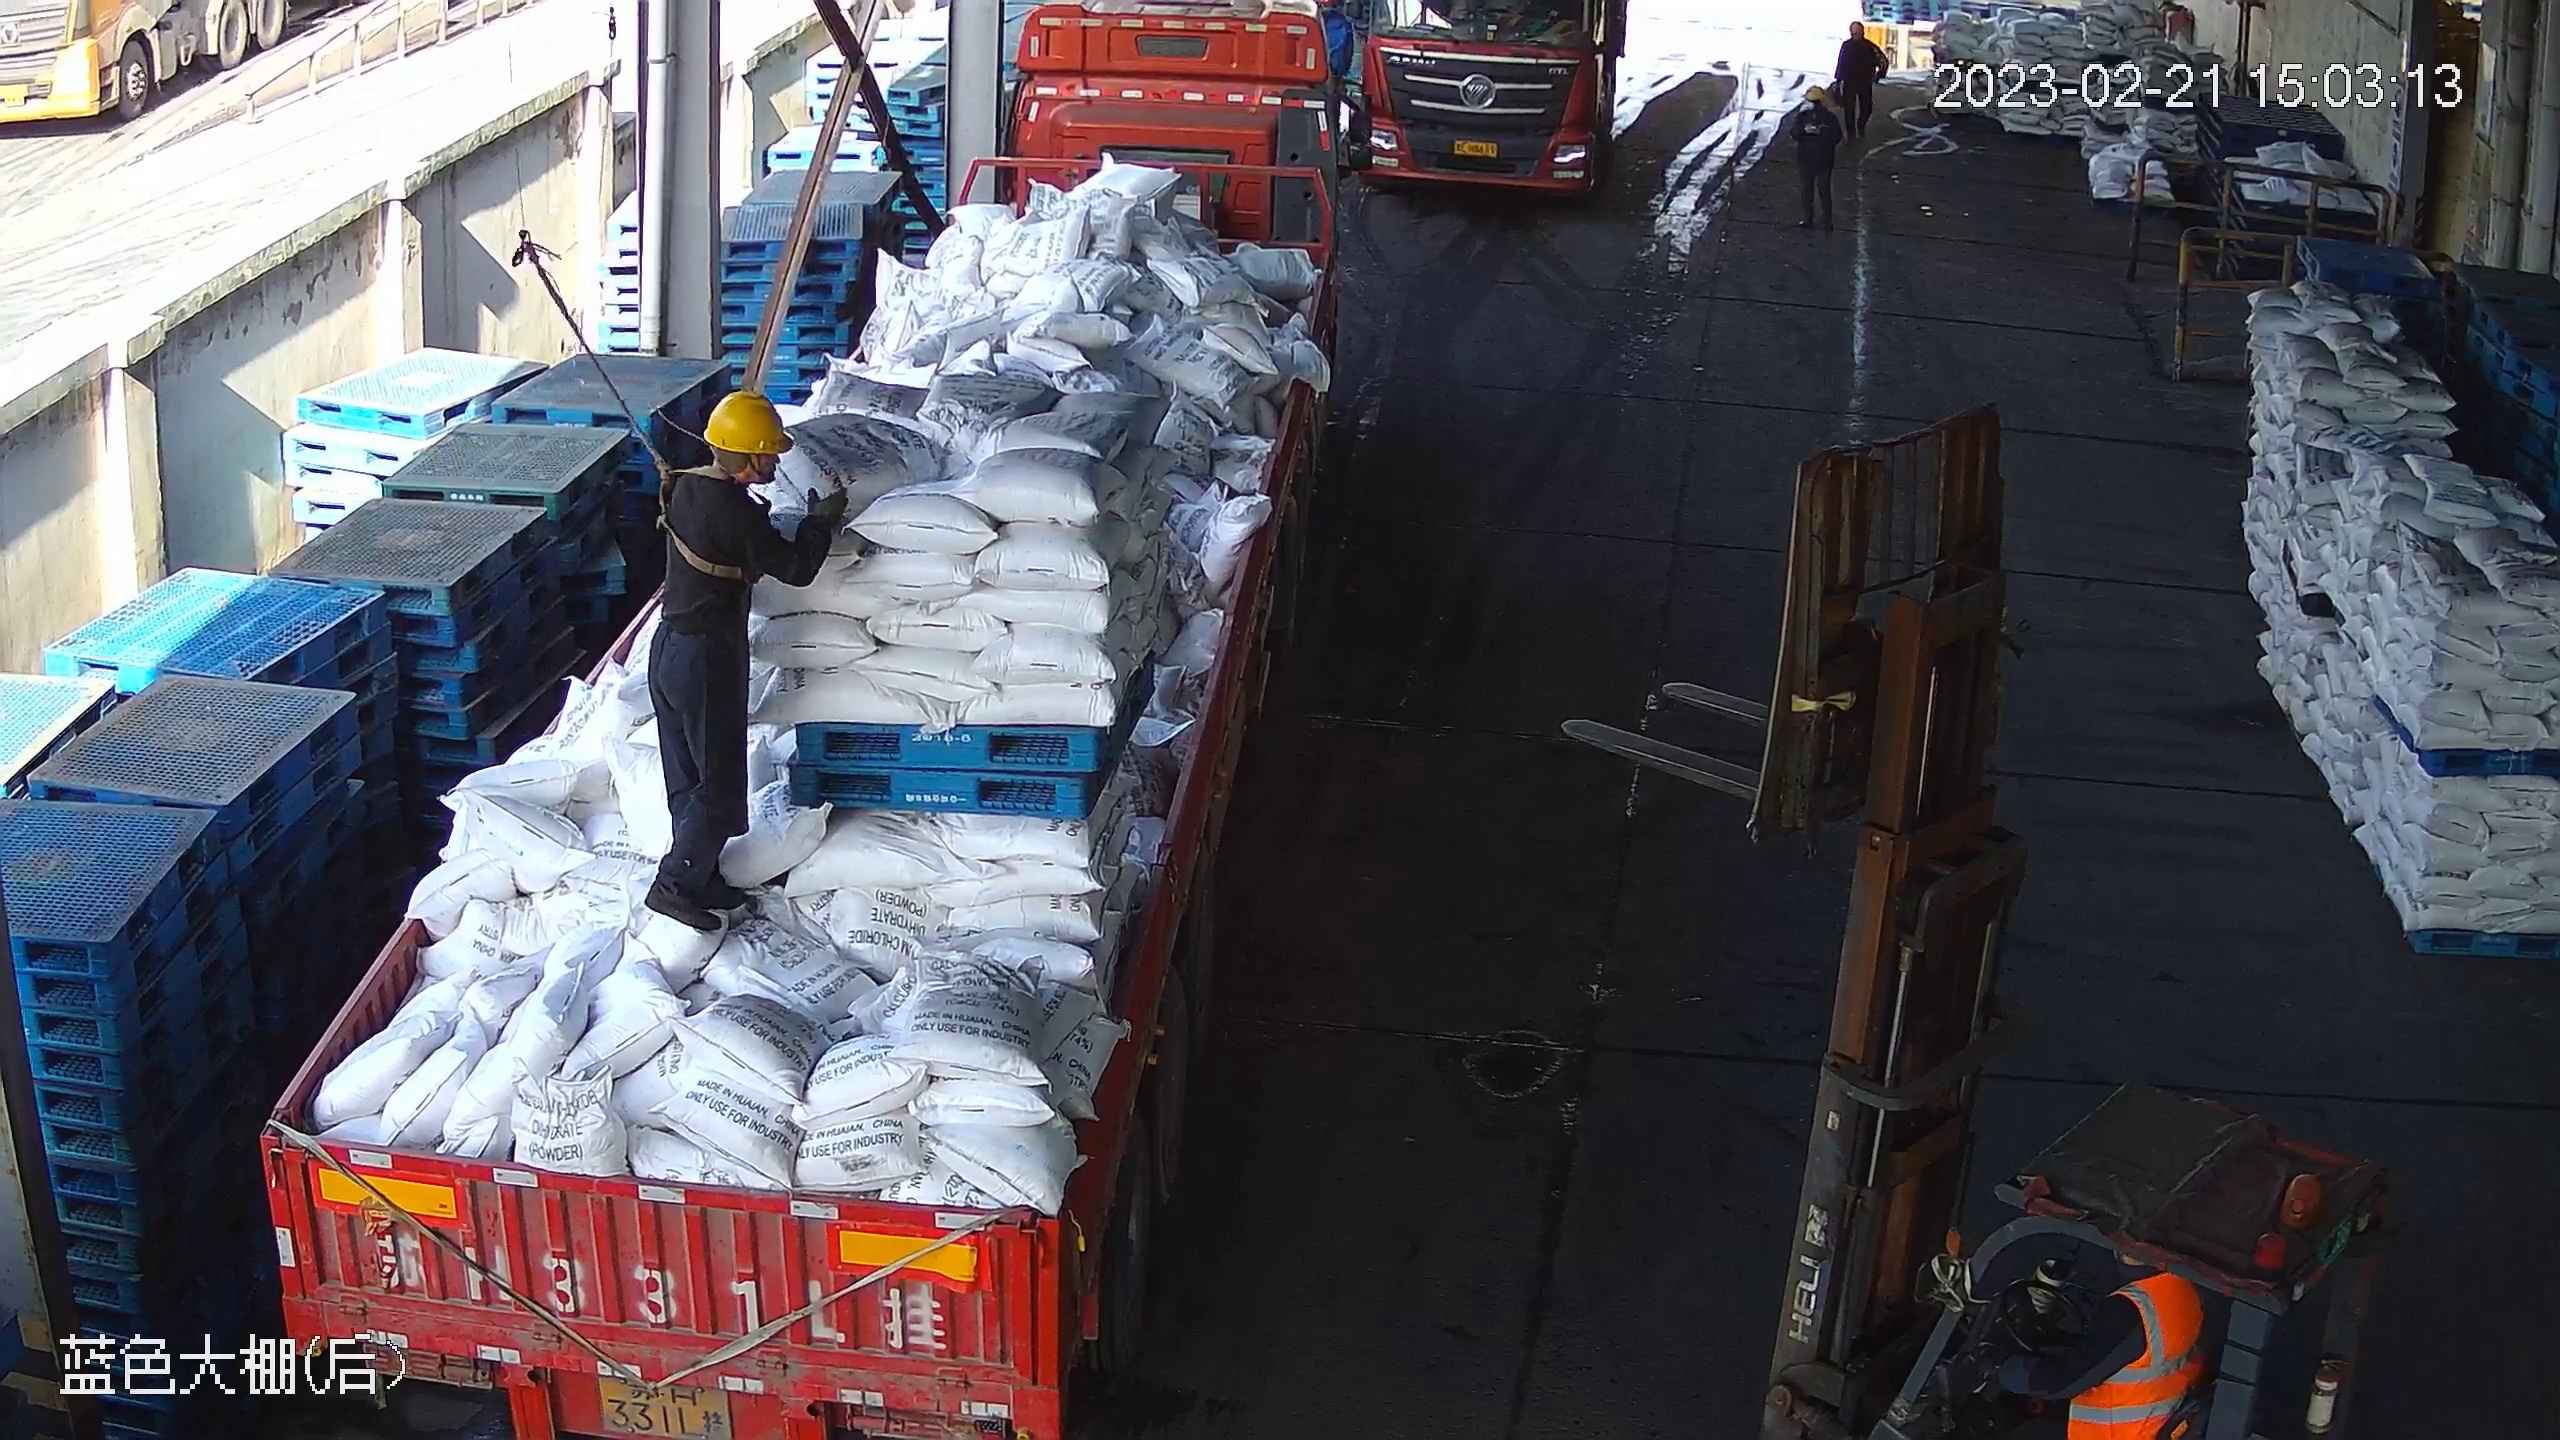belt: (651, 458, 763, 577)
head: (649, 388, 796, 527), (2066, 1245, 2213, 1336)
helmet: (701, 388, 795, 456)
people: (640, 388, 850, 932)
truck: (237, 1, 1346, 1432), (1344, 1, 1636, 206)
